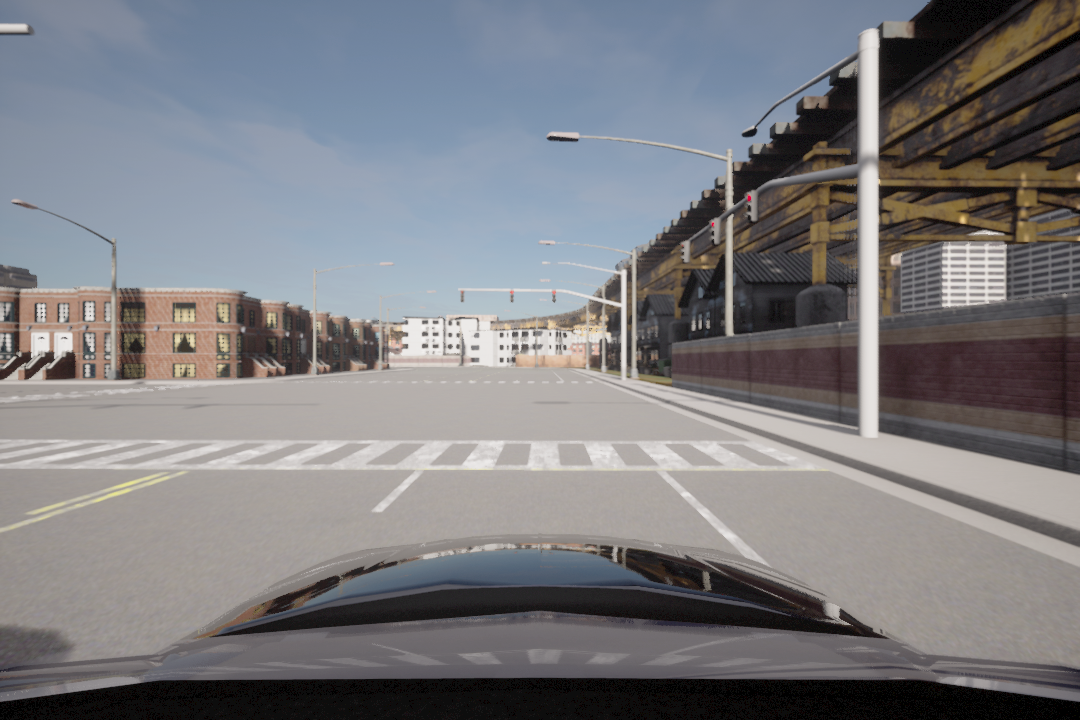TrafficLight: (744, 187, 761, 226), (678, 237, 691, 267), (709, 217, 721, 244), (456, 287, 470, 307), (547, 288, 560, 305), (507, 290, 517, 307)
walkside: (4, 435, 841, 482)
